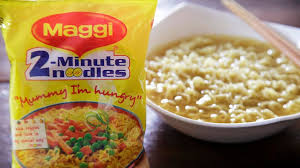maggie: (3, 3, 150, 167)
